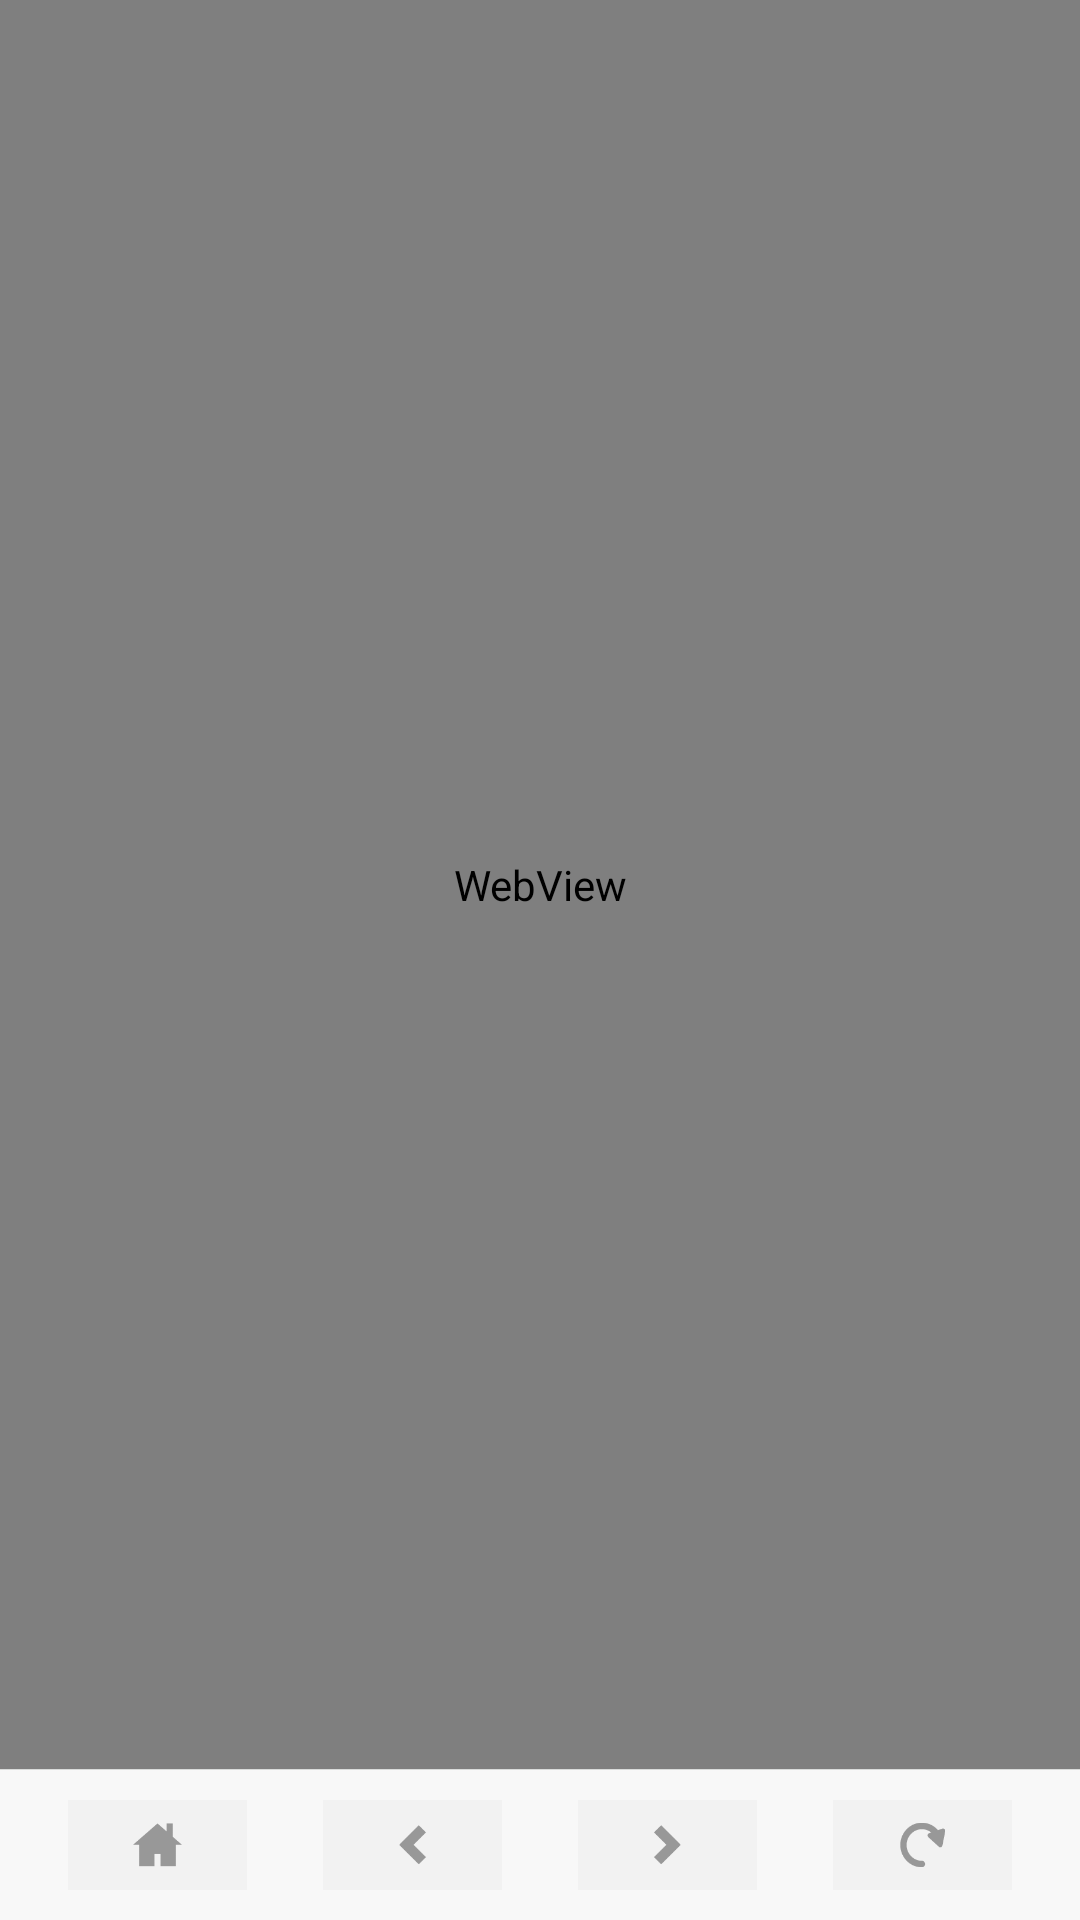

Named icons in this screenshot (1080w x 1920h) and their centers, point (x, y):
home: point (157, 1844)
next: point (667, 1844)
prev: point (412, 1844)
refresh: point (922, 1845)
